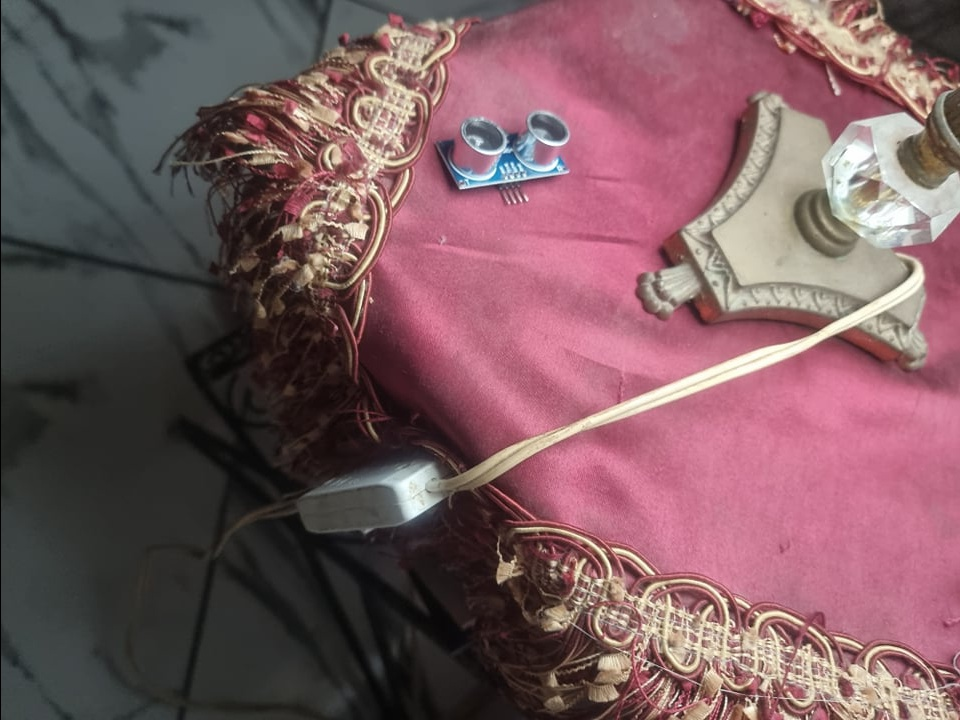SENSOR: (428, 112, 572, 189)
